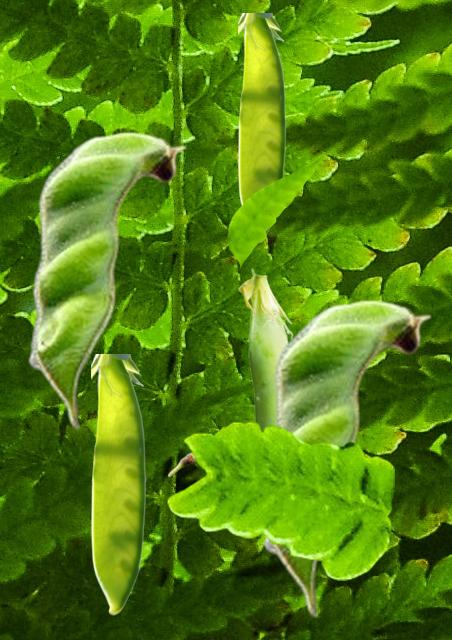pea: (262, 299, 431, 617), (27, 131, 186, 429), (91, 354, 145, 614), (238, 13, 285, 234), (238, 268, 294, 429), (168, 452, 195, 479)
